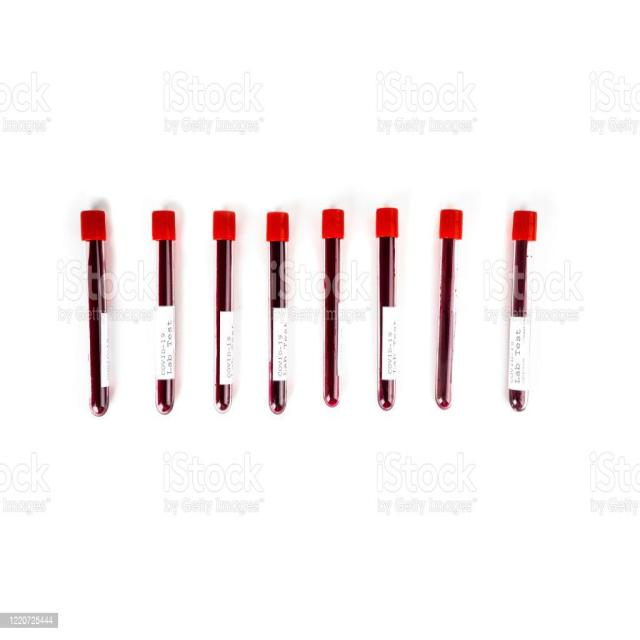B3: (496, 192, 541, 434), (71, 198, 119, 422), (144, 194, 188, 426), (368, 194, 408, 422), (259, 195, 299, 423), (316, 194, 353, 422), (428, 195, 466, 416), (202, 200, 240, 418)
